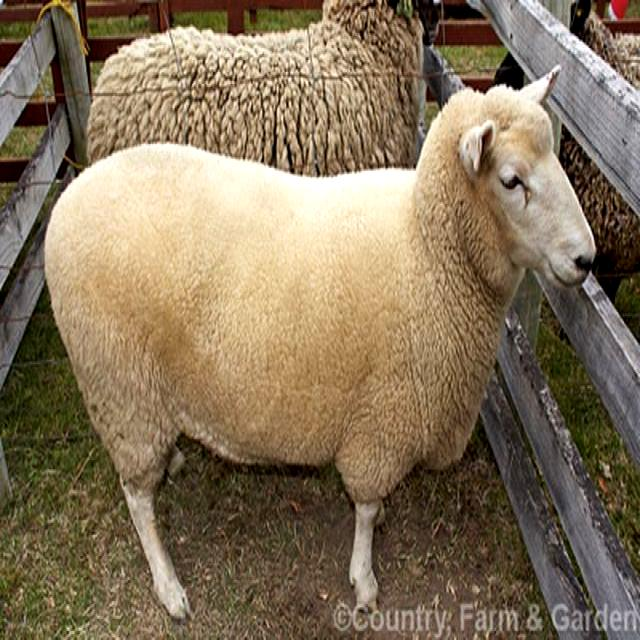sheep: (44, 61, 594, 622)
